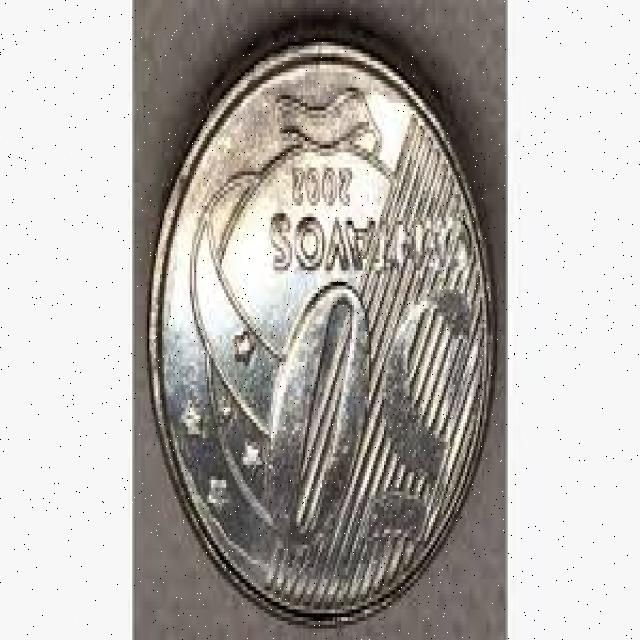50 cent: (148, 34, 498, 630)
